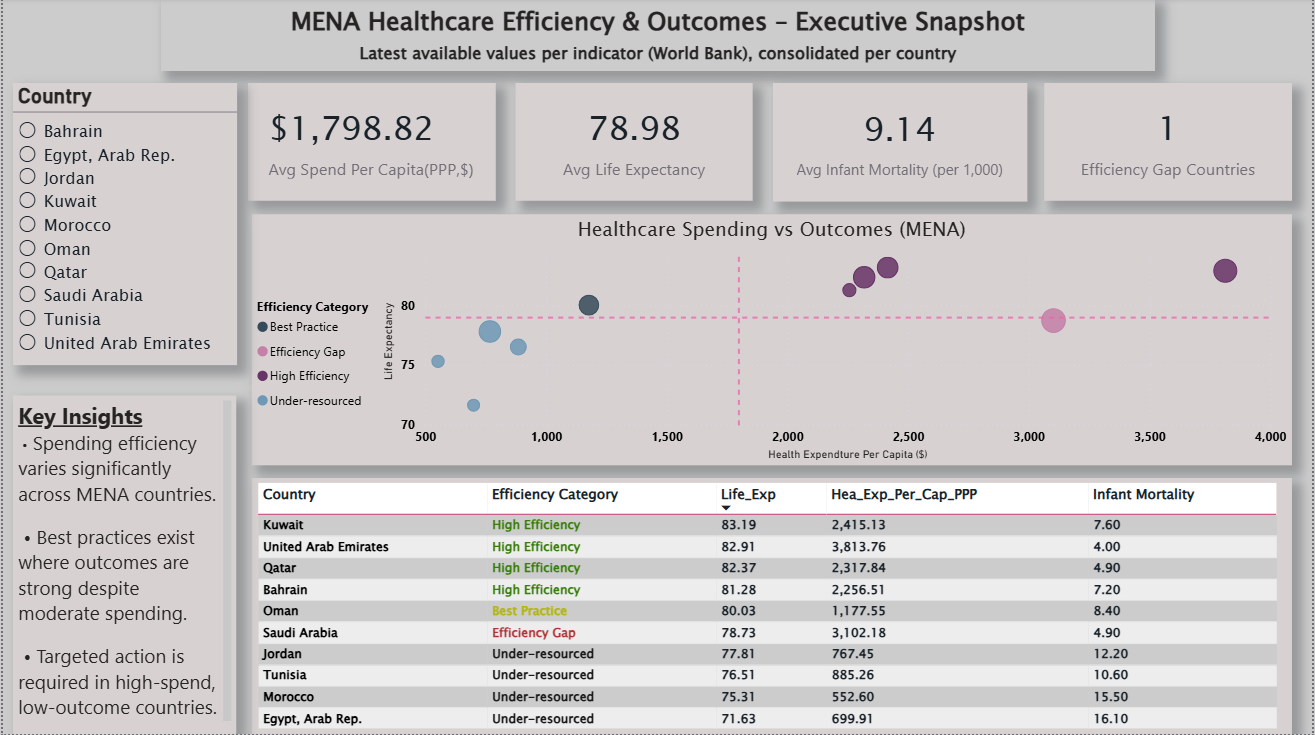

This screenshot's page, from the dashboard's own definition file:
{"tool":"powerbi","page":{"name":"Excutive View","canvas":[1280,720],"ordinal":0},"visuals":[{"type":"textbox","box":[153.7,0,972.9,71.4],"z":0},{"type":"cardVisual","fields":{"Data":["mena_health_latest_snapshot.MENA Avg Spend PPP"]},"box":[239.7,83.2,242.1,114.9],"z":1000},{"type":"cardVisual","fields":{"Data":["mena_health_latest_snapshot.MENA Avg Life Expectancy"]},"box":[501.4,83.2,232.3,114.9],"z":2000},{"type":"cardVisual","fields":{"Data":["mena_health_latest_snapshot.MENA Avg Infant Mortality"]},"box":[752.9,82.9,248.6,115.7],"z":3000},{"type":"cardVisual","fields":{"Data":["mena_health_latest_snapshot.# Efficiency Gap Countries"]},"box":[1018.6,83.2,242.1,114.9],"z":4000},{"type":"scatterChart","title":"Healthcare Spending vs Outcomes (MENA)","fields":{"Y":["mena_health_latest_snapshot.Life_Expectancy"],"X":["mena_health_latest_snapshot.Health_Exp_Per_Capita_PPP"],"Size":["Avg(mena_health_latest_snapshot.Physicians_per_1000)"],"Series":["mena_health_latest_snapshot.Efficiency Category"]},"box":[243.3,211.6,1017.4,245.8],"z":5000},{"type":"listSlicer","fields":{"Values":["mena_health_latest_snapshot.Country"]},"box":[9.8,83.2,218.9,276.4],"z":6000},{"type":"tableEx","fields":{"Values":["mena_health_latest_snapshot.Country","mena_health_latest_snapshot.Efficiency Category","Sum(mena_health_latest_snapshot.Life_Expectancy)","mena_health_latest_snapshot.Health_Exp_Per_Capita_PPP","mena_health_latest_snapshot.Infant_Mortality"]},"box":[243.3,469.6,1017.4,250.7],"z":7000},{"type":"textbox","box":[10,388.6,218.6,331.4],"z":8000}]}

Visuals, with their boxes in screenshot pixels (x1, y1, x2, y2), scaled from the page's 1280x720 canvas onto the 1315x735 screenshot:
textbox: [158, 0, 1157, 73]
cardVisual - mena_health_latest_snapshot.MENA Avg Spend PPP: [246, 85, 495, 202]
cardVisual - mena_health_latest_snapshot.MENA Avg Life Expectancy: [515, 85, 754, 202]
cardVisual - mena_health_latest_snapshot.MENA Avg Infant Mortality: [773, 85, 1029, 203]
cardVisual - mena_health_latest_snapshot.# Efficiency Gap Countries: [1046, 85, 1295, 202]
"Healthcare Spending vs Outcomes (MENA)" scatterChart: [250, 216, 1295, 467]
listSlicer - mena_health_latest_snapshot.Country: [10, 85, 235, 367]
tableEx - mena_health_latest_snapshot.Country x mena_health_latest_snapshot.Efficiency Category: [250, 479, 1295, 734]
textbox: [10, 397, 235, 734]
